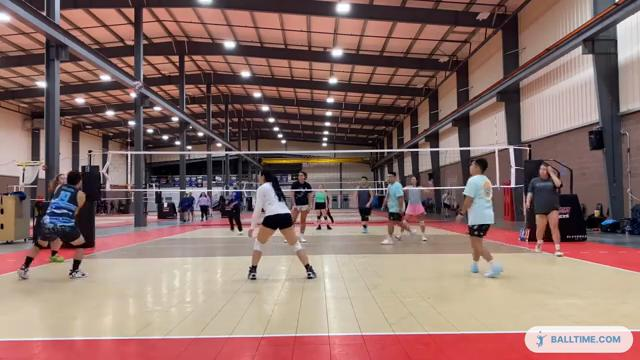ricezione: (13, 169, 90, 280)
